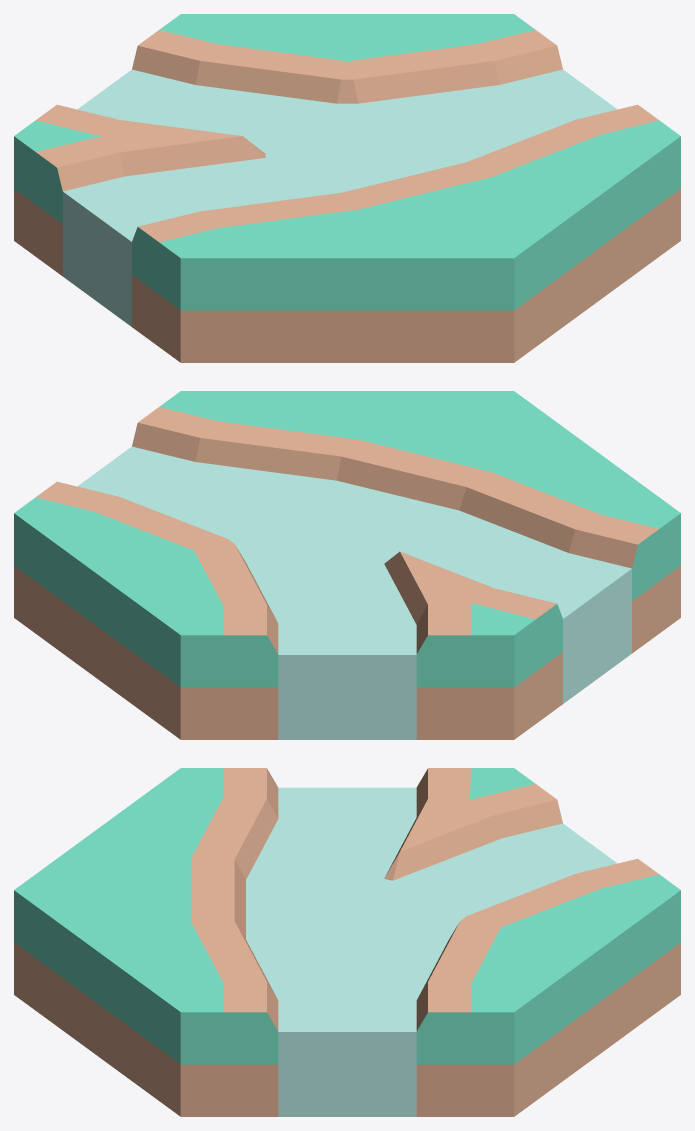
The model's file is river_intersectionC.glb.
3 views of the same model, one above another, from view 1: azimuth 30°, elevation 25°; view 2: azimuth 150°, elevation 25°; view 3: azimuth 270°, elevation 25° (orthographic).
Visible parts, largest first — view 1: river_intersectionC; view 2: river_intersectionC; view 3: river_intersectionC.
Boxes of the visible parts, left/top/right/bottom form: river_intersectionC: left=14, top=14, right=680, bottom=362; river_intersectionC: left=14, top=391, right=680, bottom=739; river_intersectionC: left=14, top=768, right=680, bottom=1116.
Bounding box in the file's own units: 1 × 0.2 × 1.15.
